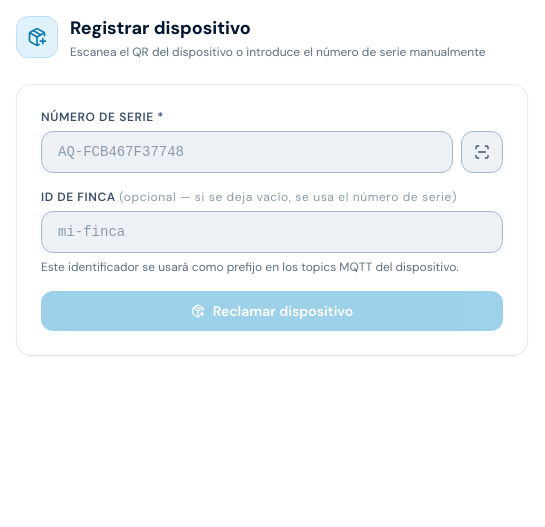
ClaimDeviceView › serial input is trimmed and uppercased before submitting
Type "  sn-abc  " into the field with placeholder "AQ-FCB467F37748" at (247, 152), box left=41, top=131, right=453, bottom=173
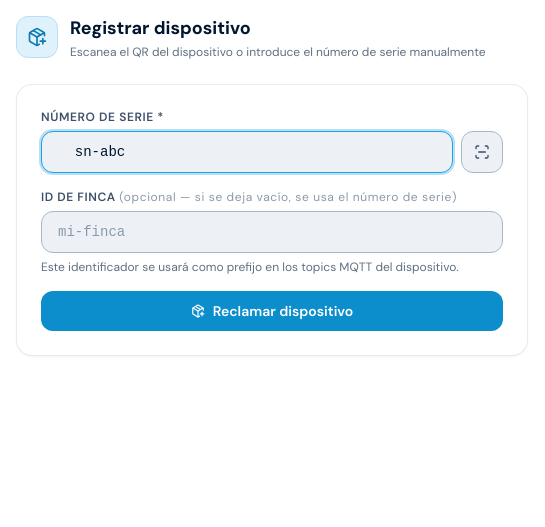
Click the button "Reclamar dispositivo" at (272, 311), box left=41, top=291, right=503, bottom=331
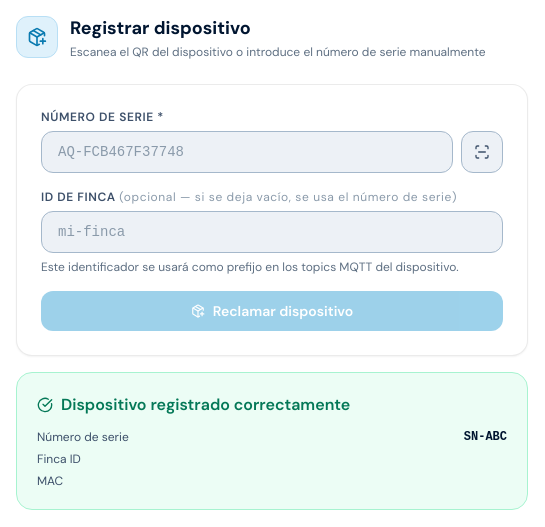
Expected: the text "SN-ABC" is shown, left=464, top=429, right=507, bottom=445
